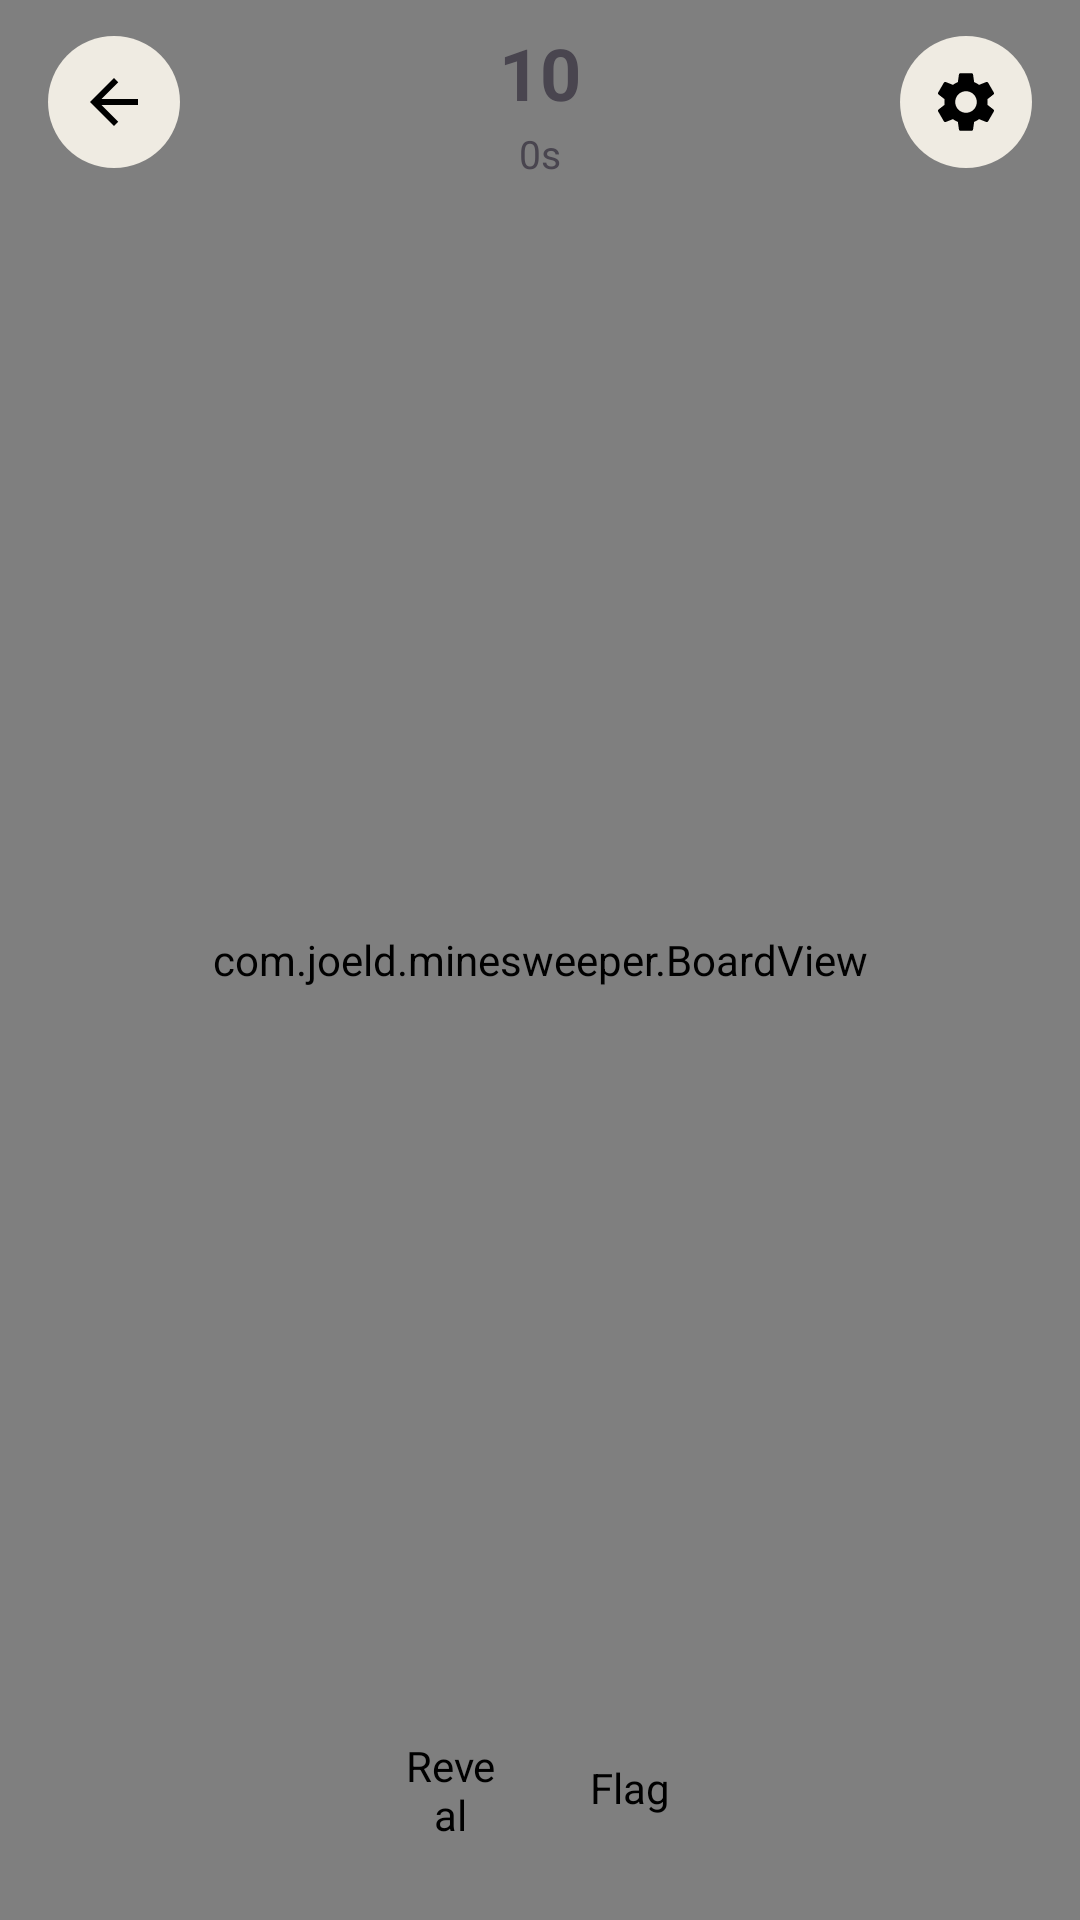

Named icons in this screenshot (1080 x 1920) and their centers, (x,y):
Back: (114,102)
Settings: (966,102)
